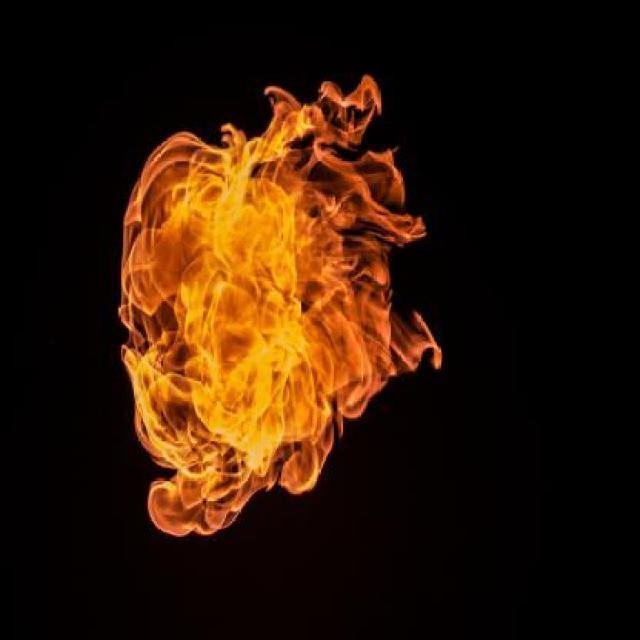Fire: (113, 74, 446, 538)
